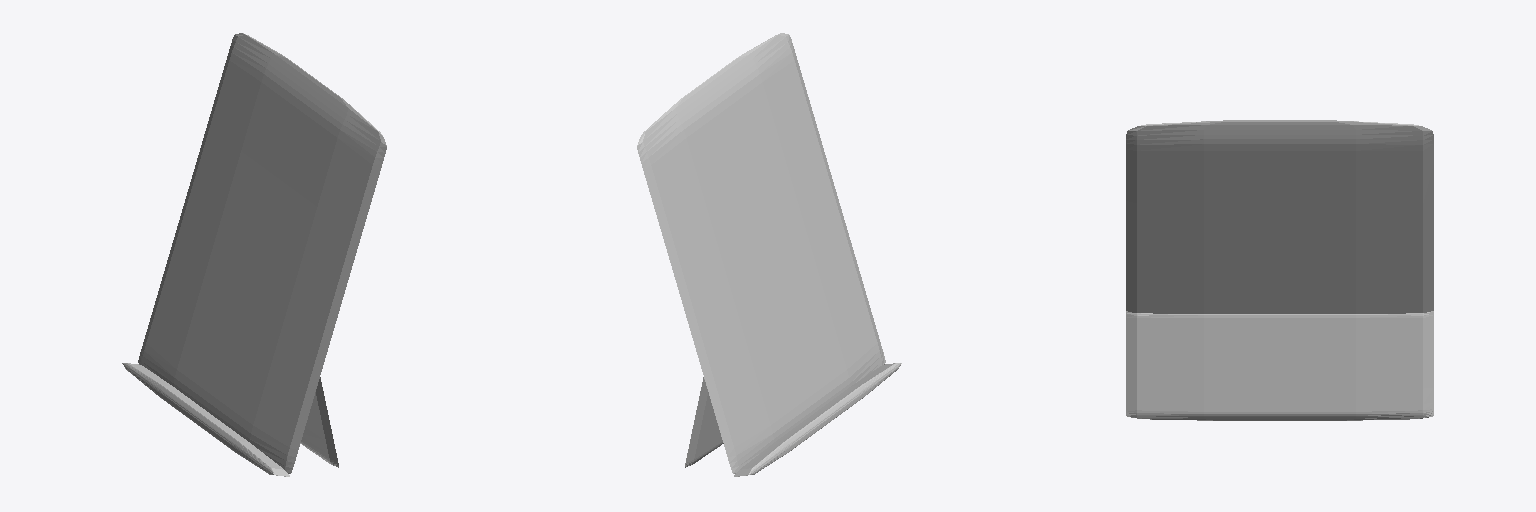
File: stand.obj
3 views of the same model, side by side, from view 1: azimuth 30°, elevation 25°; view 2: azimuth 150°, elevation 25°; view 3: azimuth 270°, elevation 25° (orthographic).
Visible parts, largest first — view 1: Cube.001, Cube.003, Cube.002; view 2: Cube.001, Cube.003, Cube.002; view 3: Cube.001, Cube.002.
Boxes of the visible parts, x1,y1,x2,y2 form: Cube.001: [138, 33, 386, 473]; Cube.003: [122, 363, 289, 476]; Cube.002: [300, 377, 338, 467]; Cube.001: [637, 33, 885, 473]; Cube.003: [734, 363, 901, 476]; Cube.002: [685, 377, 723, 467]; Cube.001: [1126, 120, 1433, 313]; Cube.002: [1126, 311, 1433, 420].
Size of the model in its own units: 2.07 by 5.47 by 4.66.